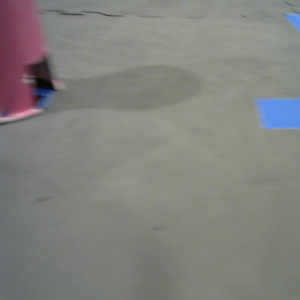middle: (1, 1, 65, 123)
